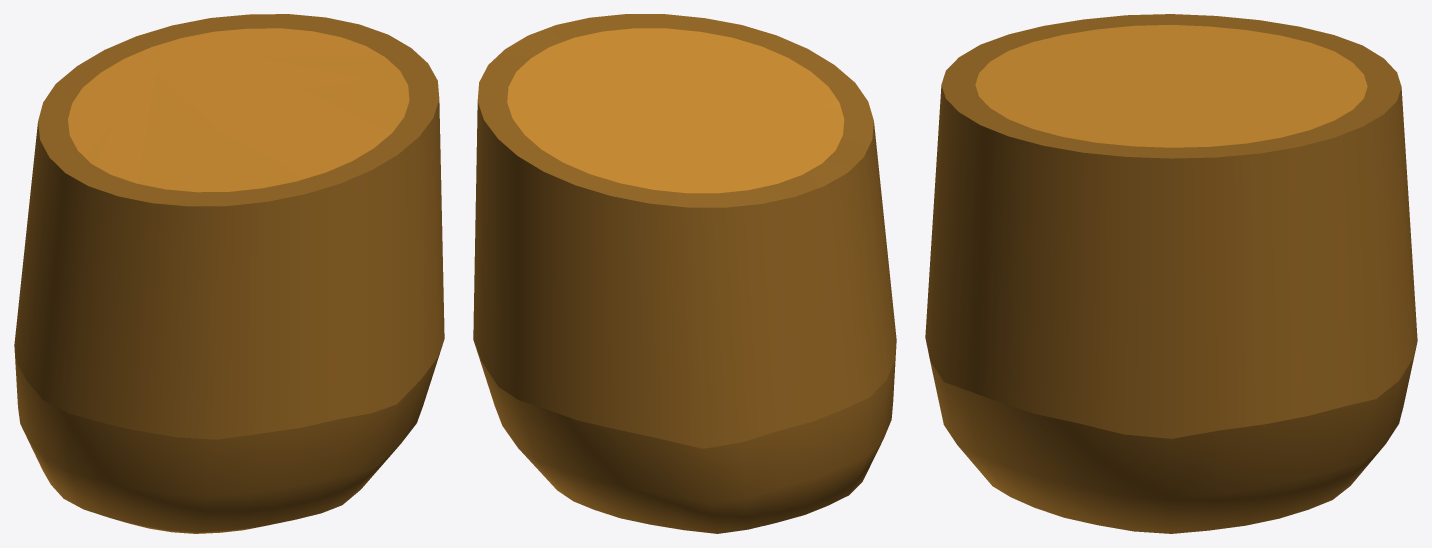
File: tree3 20%.fbx
The picture shows the model from 3 angles, left to right: view 1: azimuth 30°, elevation 25°; view 2: azimuth 150°, elevation 25°; view 3: azimuth 270°, elevation 25°; orthographic projection. The views are drawn at different scales.
Parts seen in each view (by area): view 1: Cylinder.031; view 2: Cylinder.031; view 3: Cylinder.031.
Boxes of the visible parts, x1,y1,x2,y2 form: Cylinder.031: [14, 14, 444, 533]; Cylinder.031: [473, 14, 896, 533]; Cylinder.031: [925, 14, 1417, 533].
Bounding box in the file's own units: 41.35 × 41.2 × 42.44.
